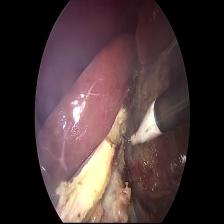Hook: (117, 99, 164, 155)
